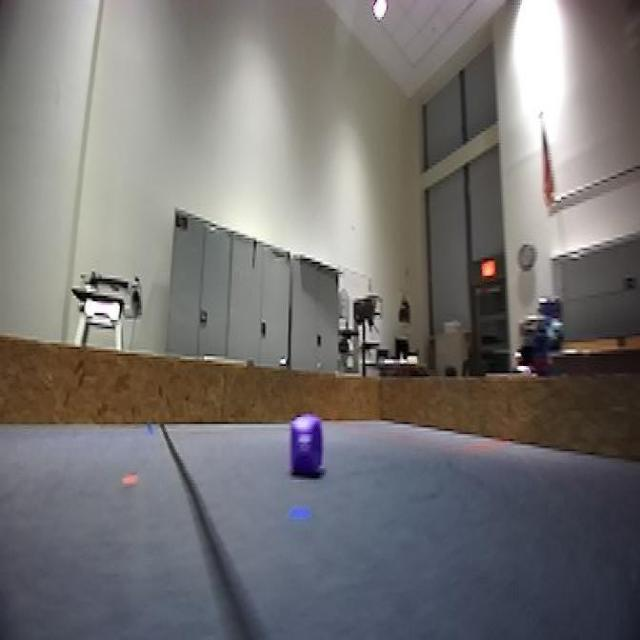frc_cube: (290, 422, 324, 480)
